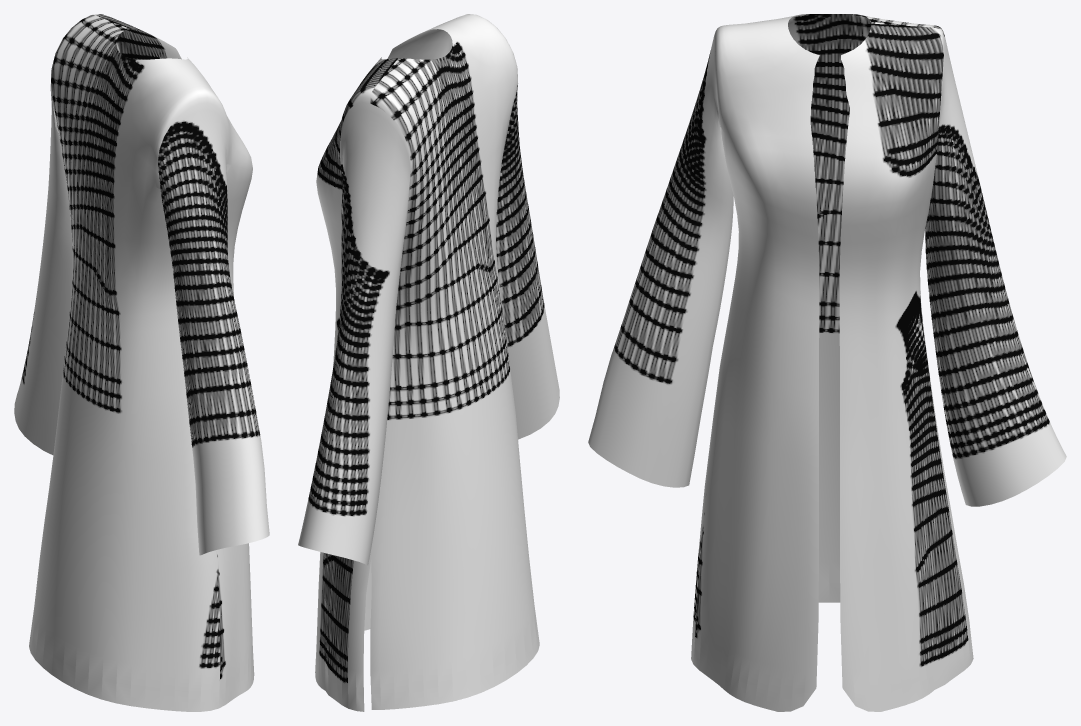
File: tunik.obj
3 views of the same model, side by side, from view 1: azimuth 30°, elevation 25°; view 2: azimuth 150°, elevation 25°; view 3: azimuth 270°, elevation 25° (orthographic). The views are drawn at different scales.
Visible parts, largest first — view 1: 3.036; view 2: 3.036; view 3: 3.036.
Part boxes in pixels (x1=…): 3.036: x1=14, y1=14, x2=269, y2=711; 3.036: x1=298, y1=14, x2=559, y2=711; 3.036: x1=588, y1=14, x2=1066, y2=711.
Size of the model in its own units: 0.3807 by 1.2 by 0.8012.
